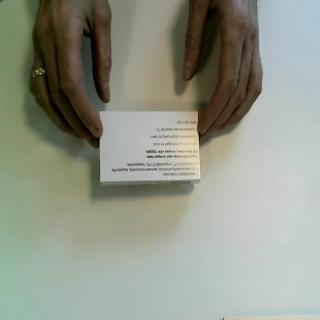oxycontin5mg: (99, 109, 203, 188)
